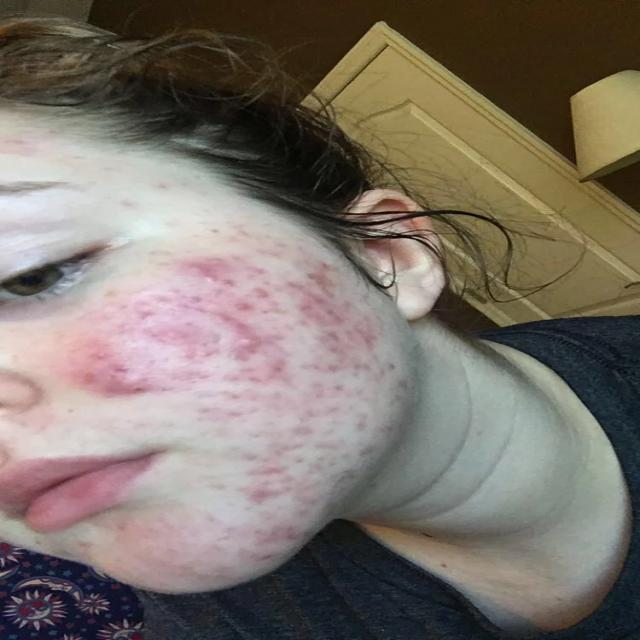Acne: (80, 230, 353, 337), (31, 333, 263, 427), (254, 328, 412, 438), (216, 442, 306, 550), (94, 515, 215, 575), (0, 138, 54, 154)
